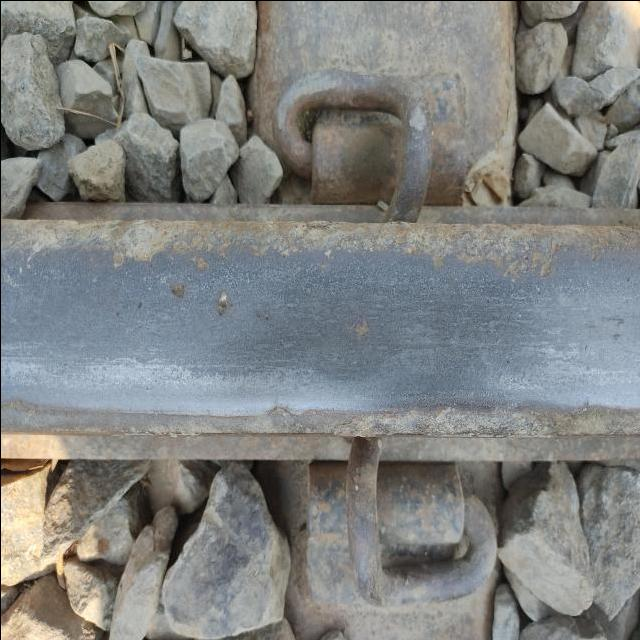squats_high: (213, 288, 231, 314), (167, 279, 189, 297), (352, 316, 369, 336)
